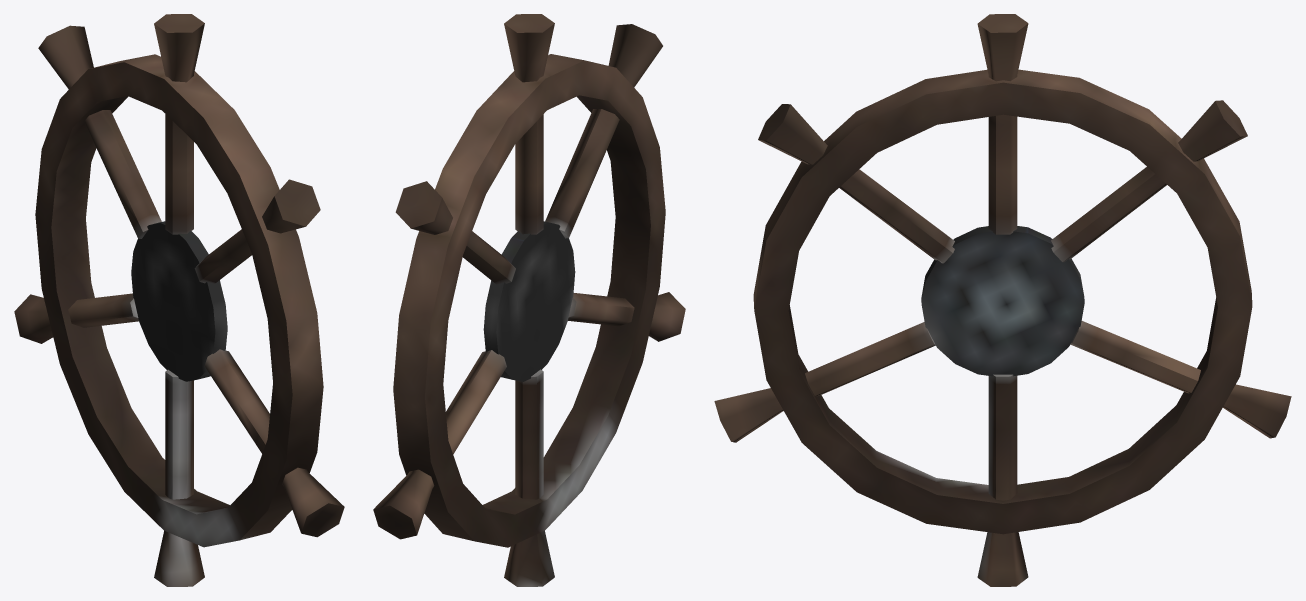
File: wheel.obj
3 views of the same model, side by side, from view 1: azimuth 30°, elevation 25°; view 2: azimuth 150°, elevation 25°; view 3: azimuth 270°, elevation 25° (orthographic).
Parts seen in each view (by area): view 1: Fisher_boat.001_Mesh.001; view 2: Fisher_boat.001_Mesh.001; view 3: Fisher_boat.001_Mesh.001.
Boxes of the visible parts, x1,y1,x2,y2 form: Fisher_boat.001_Mesh.001: (14, 14, 344, 586); Fisher_boat.001_Mesh.001: (373, 14, 685, 586); Fisher_boat.001_Mesh.001: (714, 14, 1291, 586).
Size of the model in its own units: 0.019 by 0.211 by 0.1992.
